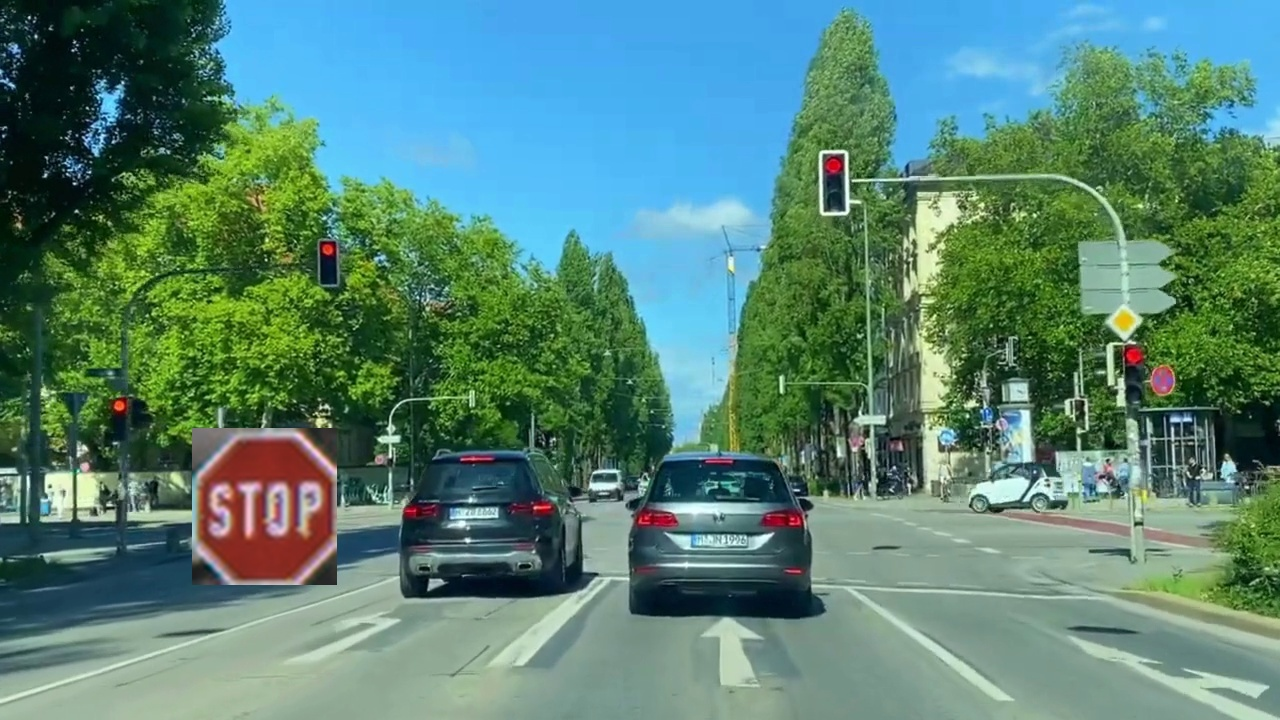Stop: (192, 428, 337, 585)
